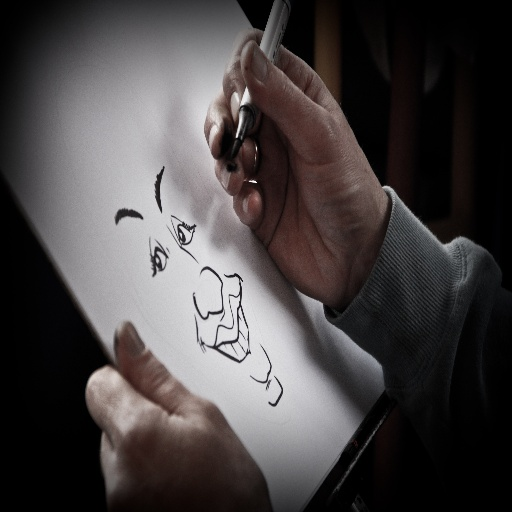hand: (199, 12, 399, 329), (83, 317, 273, 511)
